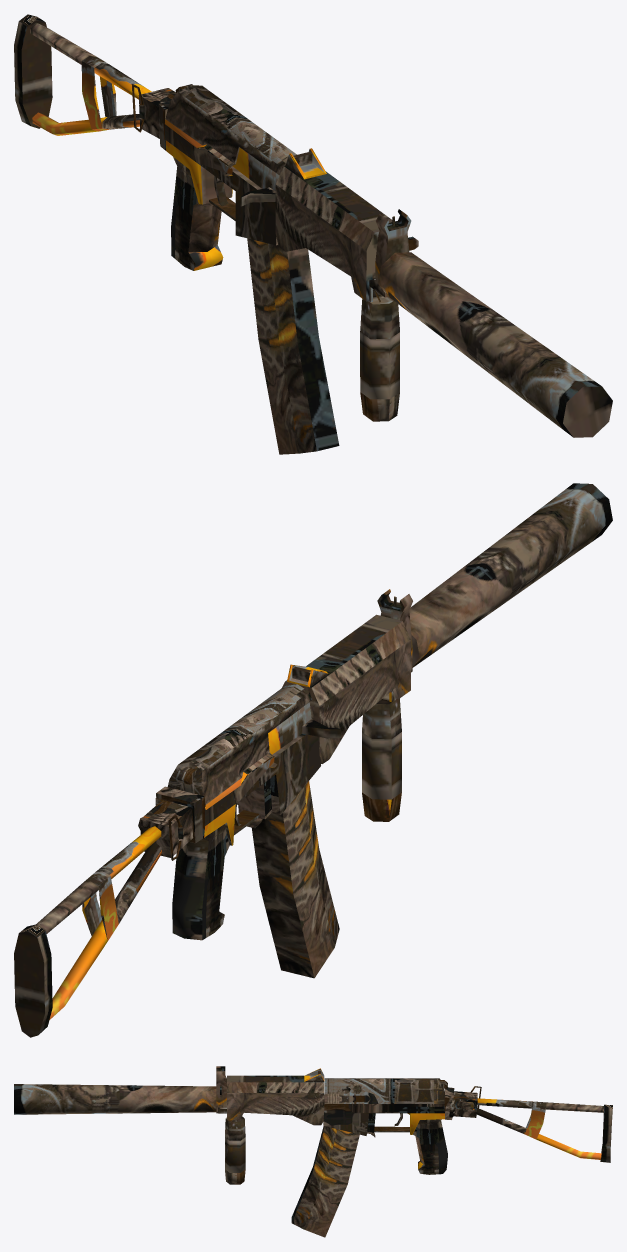
File: Assault_Rifle_SMG_VAL_lod1_SeaBone_Skin_Body_LOD_(000783).glb
3 views of the same model, one above another, from view 1: azimuth 30°, elevation 25°; view 2: azimuth 150°, elevation 25°; view 3: azimuth 270°, elevation 25° (orthographic). The views are drawn at different scales.
Visible parts, largest first — view 1: SMG_VAL_lod1; view 2: SMG_VAL_lod1; view 3: SMG_VAL_lod1.
Boxes of the visible parts, x1,y1,x2,y2 form: SMG_VAL_lod1: [14, 14, 612, 454]; SMG_VAL_lod1: [14, 483, 612, 1037]; SMG_VAL_lod1: [14, 1066, 612, 1237].
Size of the model in its own units: 0.0939 by 0.3656 by 1.2.
1 material, 1 textured.
